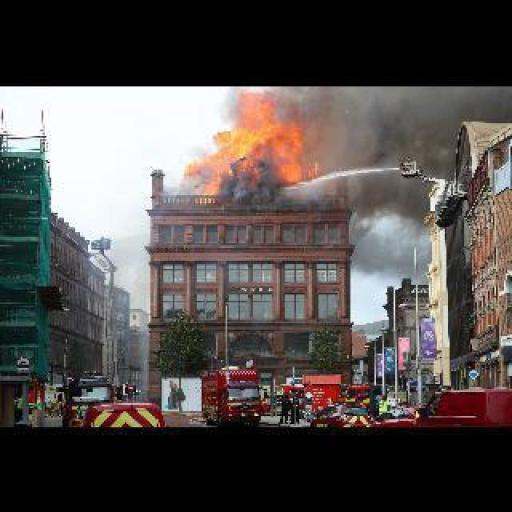smoke: (300, 84, 510, 226), (180, 91, 306, 197), (224, 160, 280, 210)
